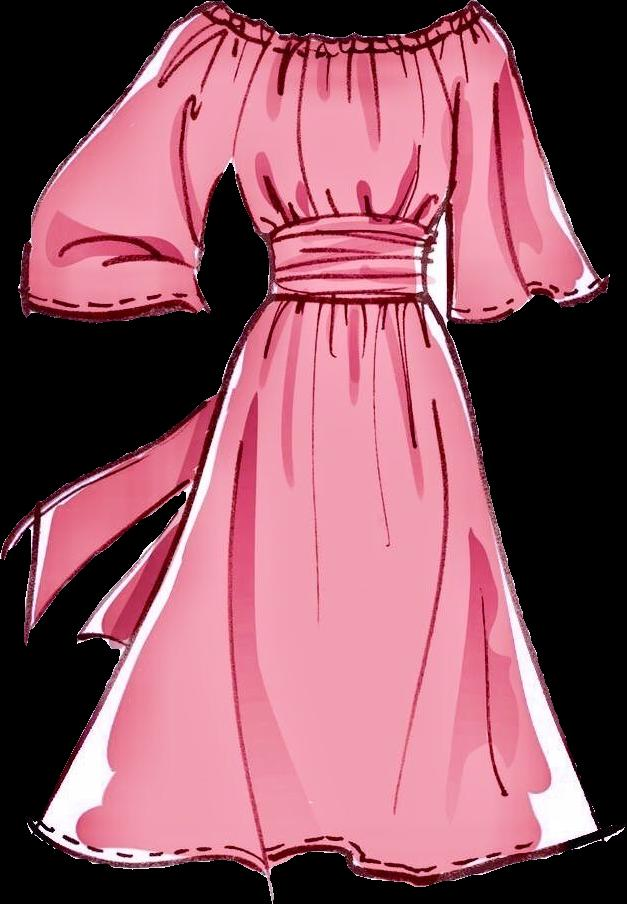Bodice: (231, 30, 455, 305)
Hemline: (27, 822, 611, 886)
Neckline: (262, 208, 438, 240), (276, 27, 421, 44)
Skirt: (26, 295, 603, 886)
Sleeve: (18, 1, 280, 322), (421, 1, 609, 323)
Sleeveline: (226, 30, 284, 170), (417, 27, 462, 179)
Waistline: (264, 287, 432, 313)
